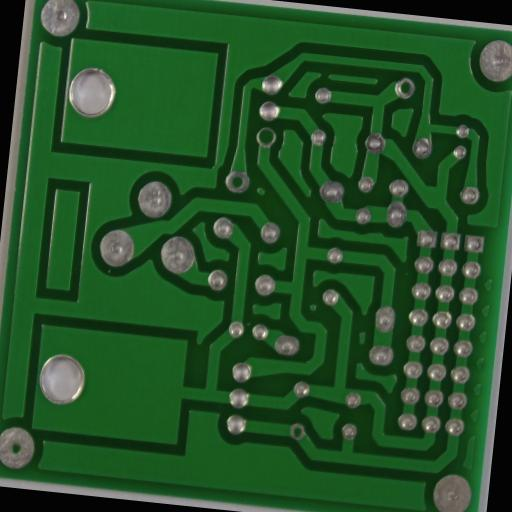missing_hole: (254, 126, 278, 150), (4, 435, 26, 460), (394, 78, 416, 100), (228, 172, 248, 194), (288, 424, 307, 442)
